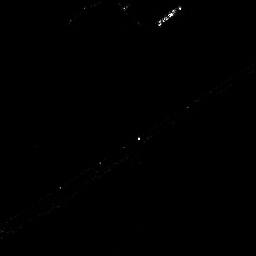ship: (155, 6, 183, 28)
